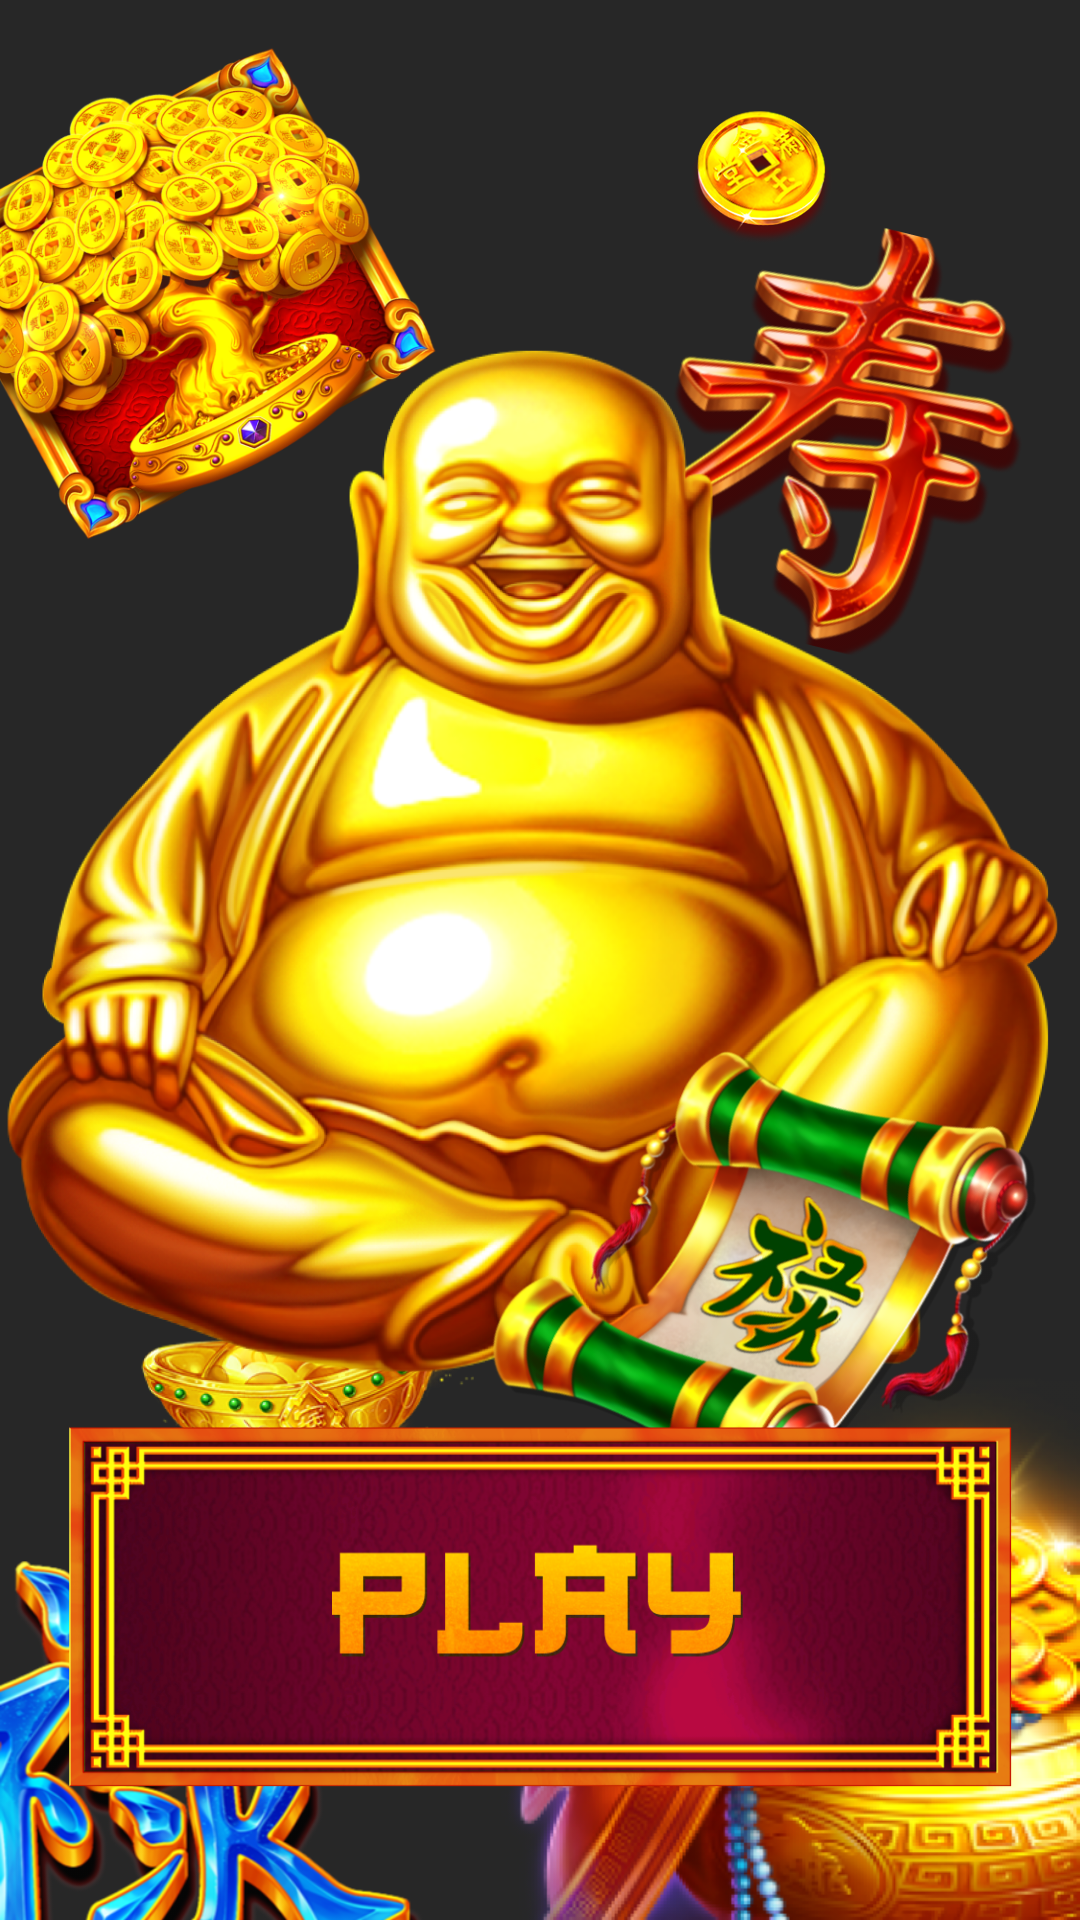

Icons on this 1080 x 1920 Android screen, each with the point to tap as (x=x, y=y):
coin: (x=761, y=173)
